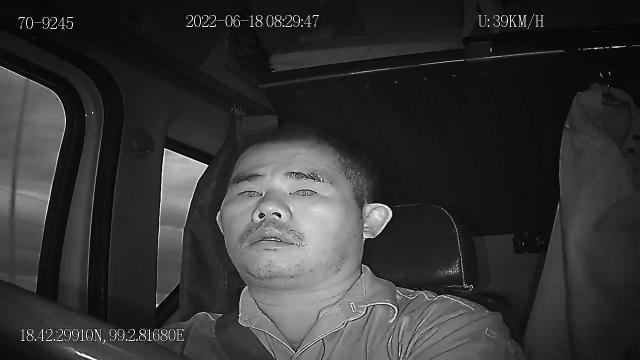SafeDriving: (282, 176, 328, 203), (229, 178, 267, 206)
Seatbelt: (211, 310, 283, 356)
